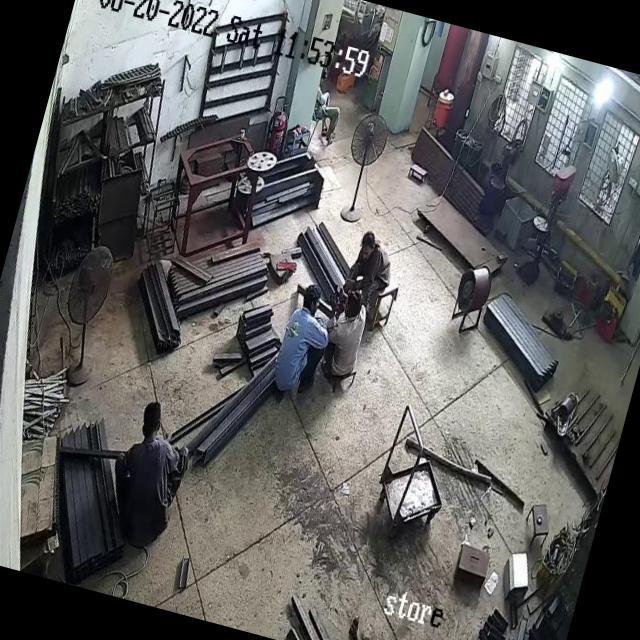person: (98, 397, 204, 540), (264, 278, 343, 411), (316, 284, 376, 382), (345, 221, 401, 303), (300, 70, 351, 150)
